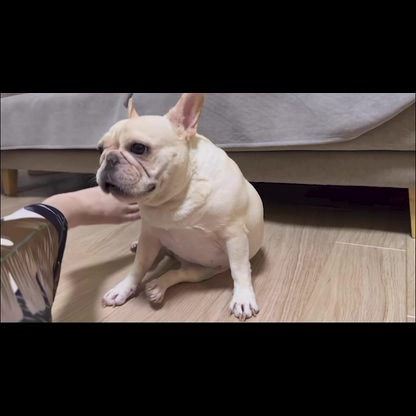bulldog: (91, 94, 278, 321)
